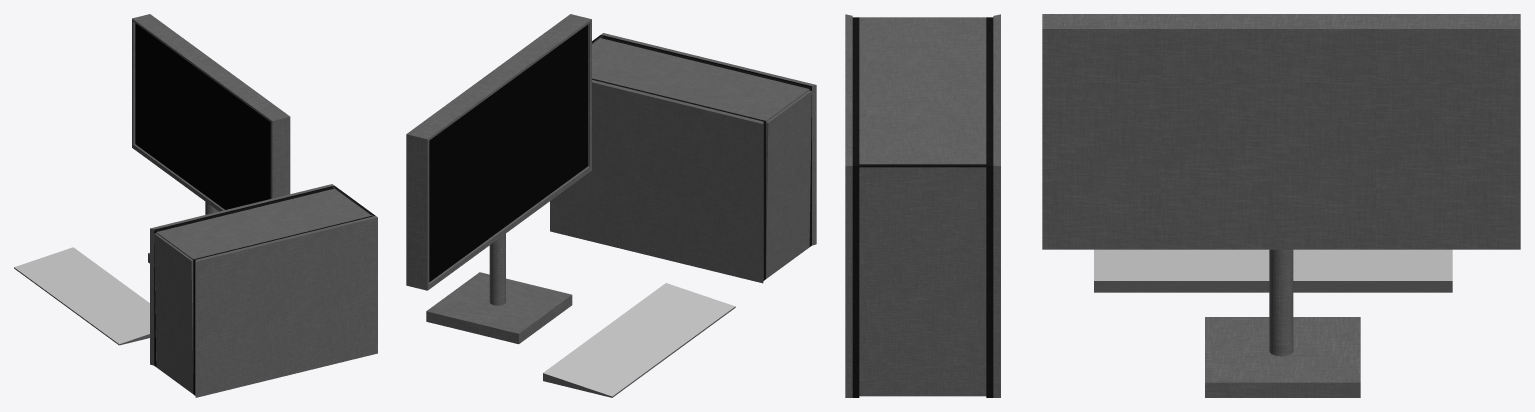
3 views of the same model, side by side, from view 1: azimuth 30°, elevation 25°; view 2: azimuth 150°, elevation 25°; view 3: azimuth 270°, elevation 25° (orthographic). The views are drawn at different scales.
Parts seen in each view (by area): view 1: PC-col, Screen-col, Keyboard-col; view 2: PC-col, Screen-col, Keyboard-col; view 3: Screen-col, PC-col, Keyboard-col.
Part boxes in pixels (bbox=[...]): PC-col: bbox=[150, 184, 377, 397]; Screen-col: bbox=[132, 14, 290, 263]; Keyboard-col: bbox=[14, 247, 149, 345]; PC-col: bbox=[550, 33, 816, 283]; Screen-col: bbox=[406, 14, 591, 344]; Keyboard-col: bbox=[543, 283, 735, 397]; Screen-col: bbox=[1042, 14, 1520, 397]; PC-col: bbox=[845, 14, 1000, 397]; Keyboard-col: bbox=[1094, 249, 1452, 292].
Size of the model in its own units: 1.18 by 2.17 by 1.22.
